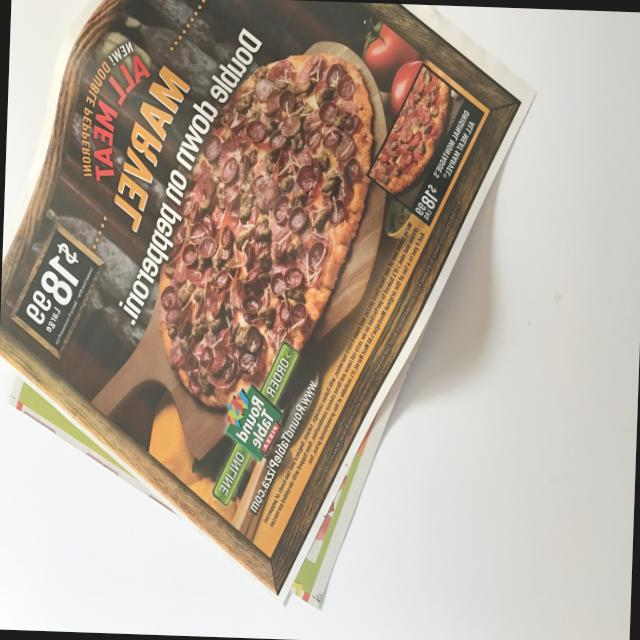Paper: (0, 0, 535, 617)
